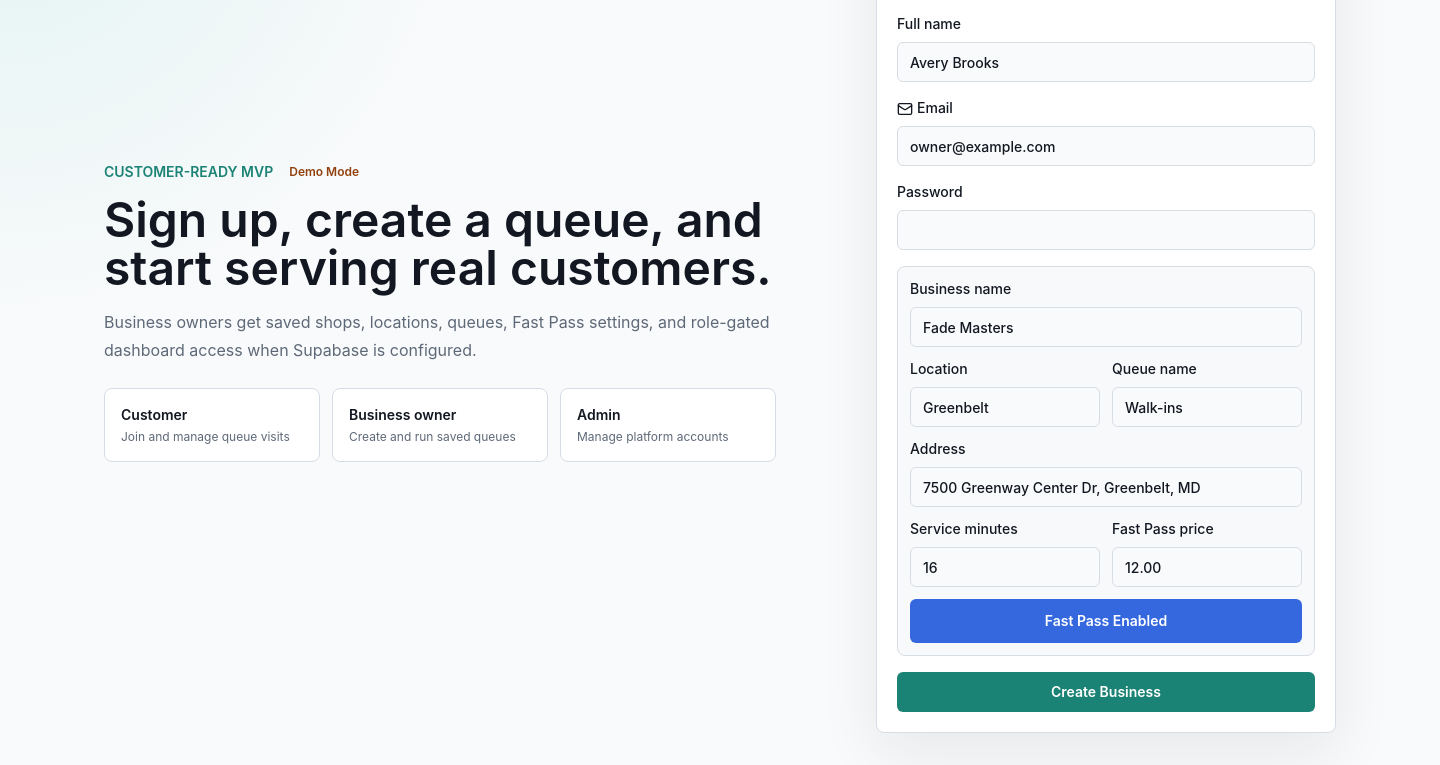
Test: AuthOnboarding › shows visible validation when the primary auth button is clicked without a password
This screenshot has width=1440, height=765.
(page scrolled)
Click the button "Create Business": (1106, 692) x1=897 y1=672 x2=1315 y2=712
(page scrolled)
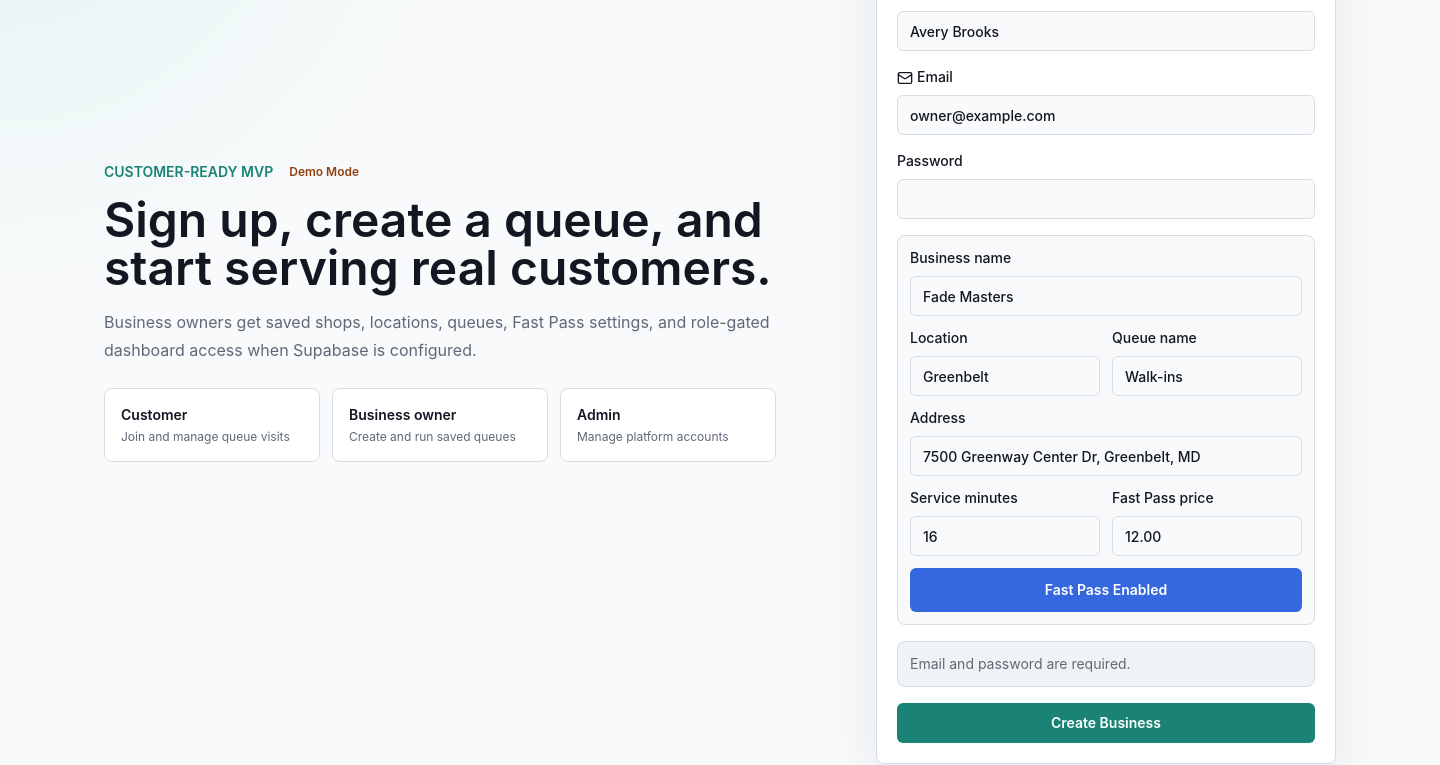
Expected: the message reads "Email and password are required.", x1=910 y1=655 x2=1131 y2=672
